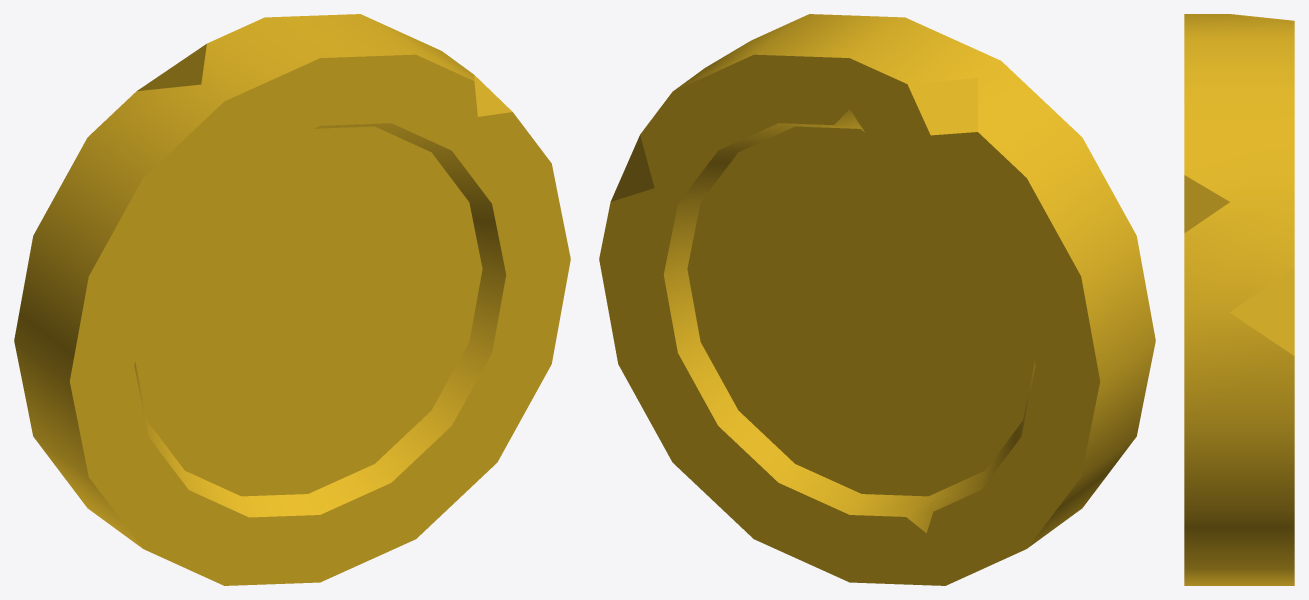
File: coin.fbx
3 renders of one model, left to right at view 1: azimuth 30°, elevation 25°; view 2: azimuth 150°, elevation 25°; view 3: azimuth 270°, elevation 25°, orthographic.
Visible parts, largest first — view 1: coin.002; view 2: coin.002; view 3: coin.002.
Boxes of the visible parts, bbox=[...] form: coin.002: bbox=[14, 14, 570, 585]; coin.002: bbox=[599, 14, 1155, 585]; coin.002: bbox=[1184, 14, 1294, 585].
Size of the model in its own units: 32.36 by 32.36 by 6.22.
